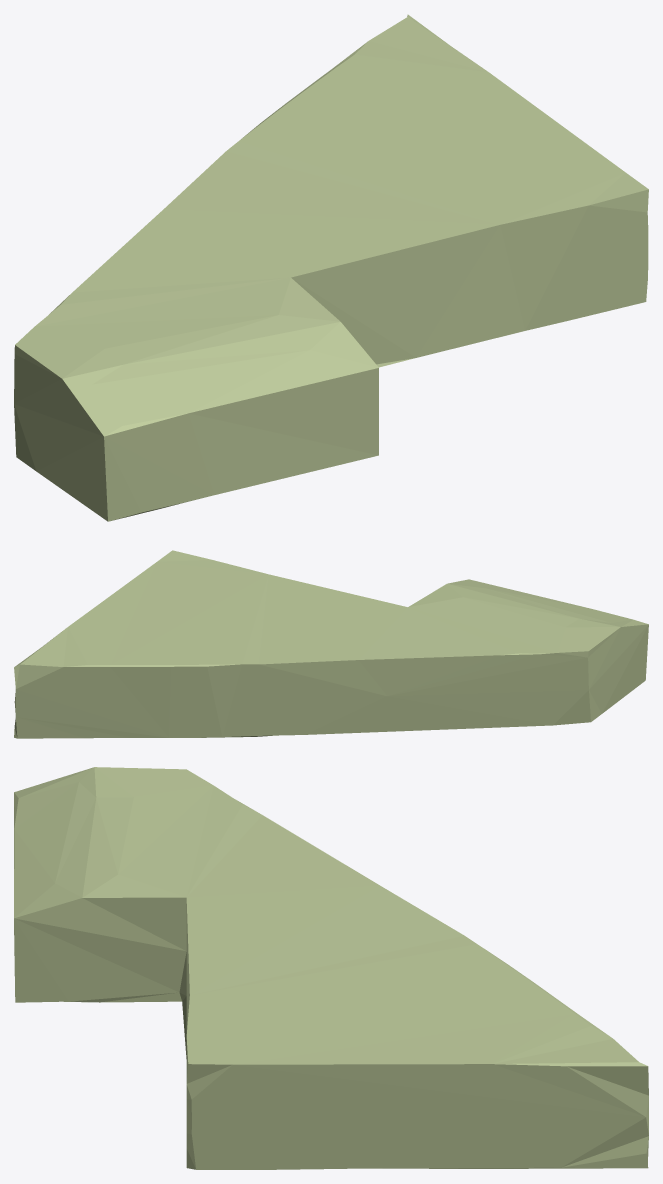
The model's file is ground_22.gltf.
3 views of the same model, one above another, from view 1: azimuth 30°, elevation 25°; view 2: azimuth 150°, elevation 25°; view 3: azimuth 270°, elevation 25° (orthographic). The views are drawn at different scales.
Visible parts, largest first — view 1: dasan; view 2: dasan; view 3: dasan.
Part boxes in pixels (left/top/right/bottom): dasan: left=14, top=14, right=648, bottom=521; dasan: left=14, top=550, right=648, bottom=738; dasan: left=14, top=767, right=648, bottom=1169.
Size of the model in its own units: 18.32 by 3.12 by 16.63.
